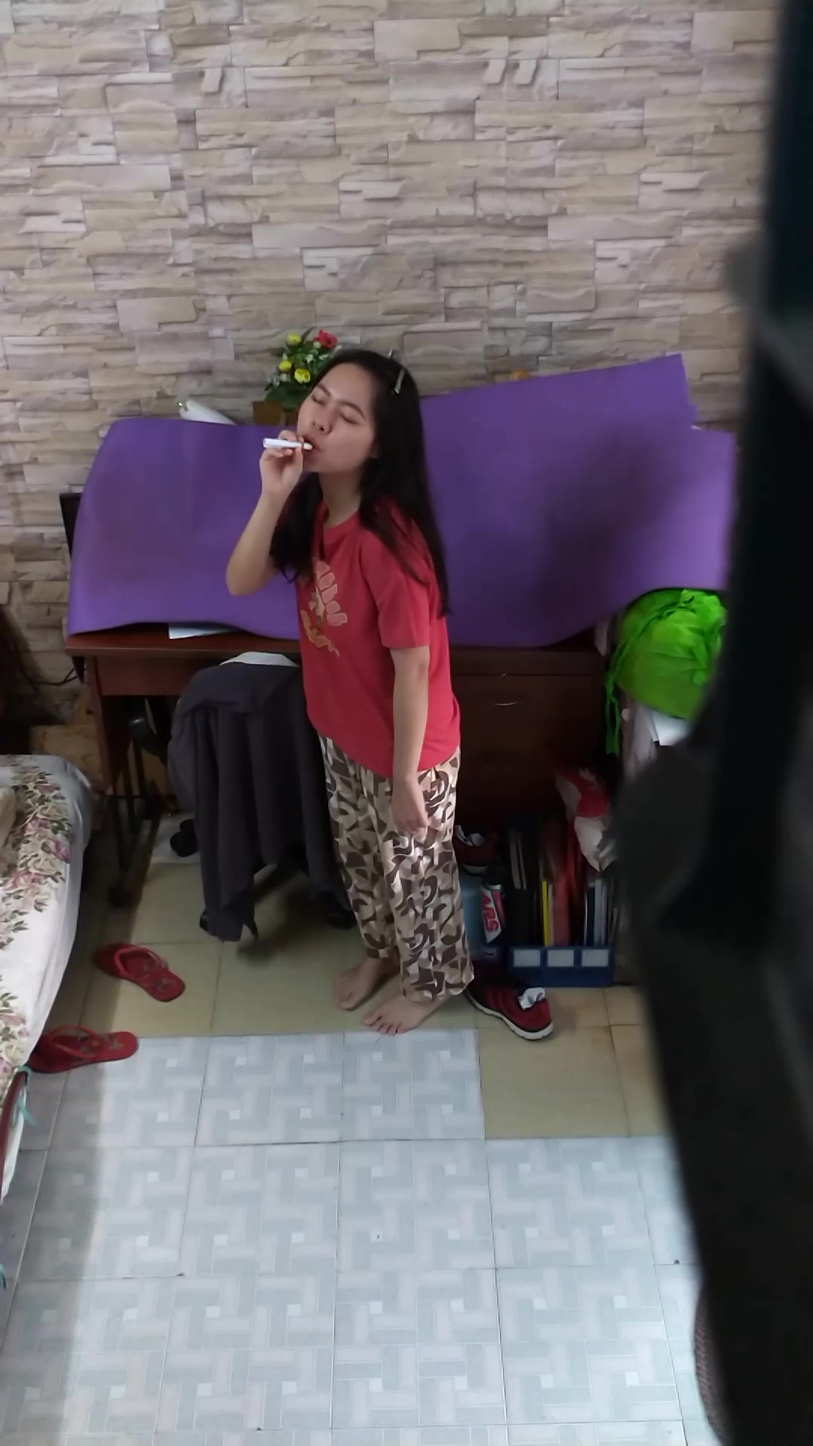cigarette: (258, 435, 300, 451)
person: (233, 331, 477, 1023)
